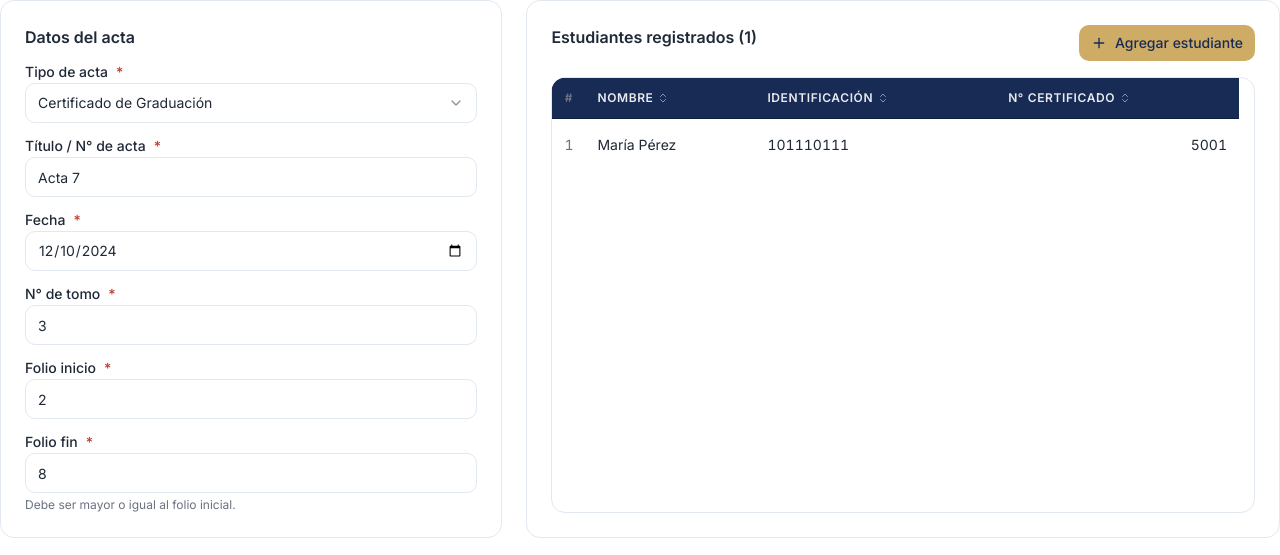
Test case: DetalleActa › guarda al salir del campo cuando cambió y es válido
Replace the text in the field labelled "Título / N° de acta *" with "Acta 7 corregida" at (251,177), box [25,157,477,197]
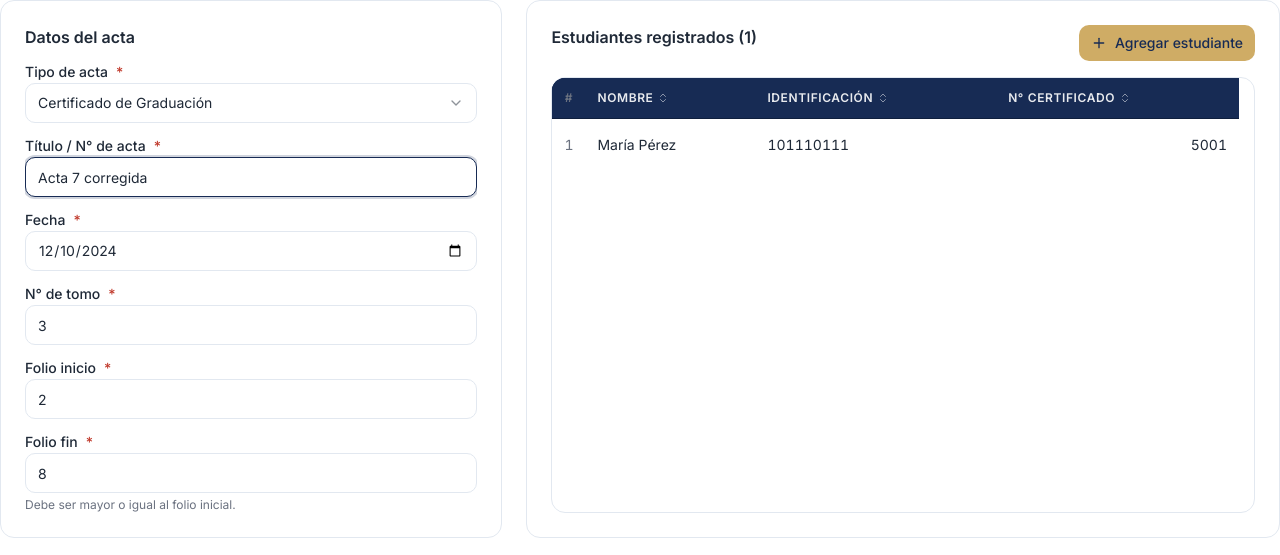
Press Tab
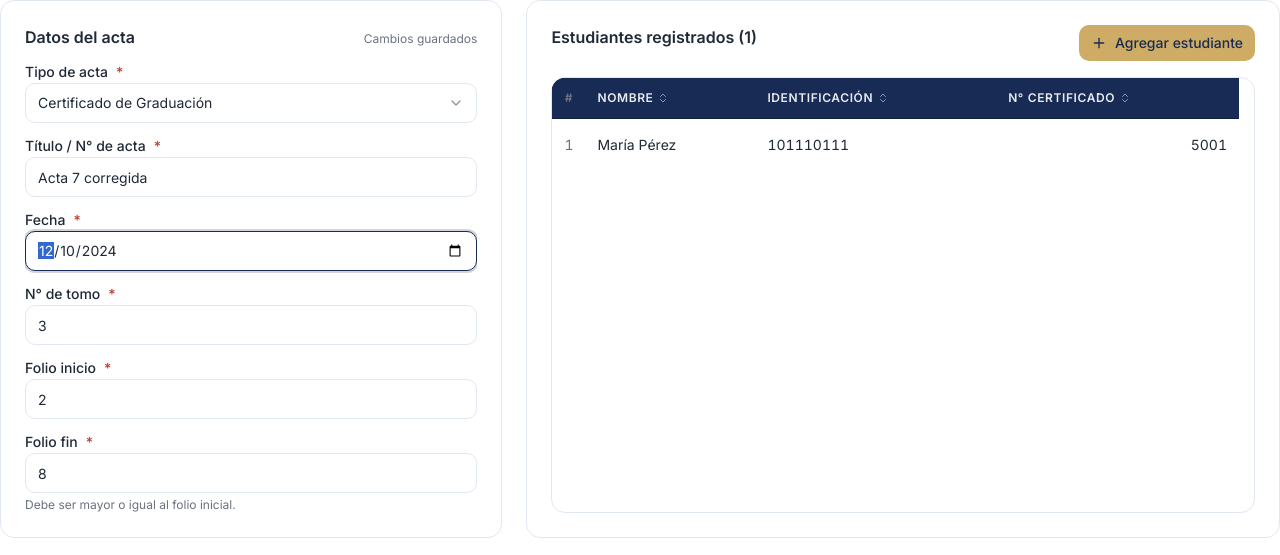
Check: the text "Cambios guardados" is shown, box [364,31,477,46]
